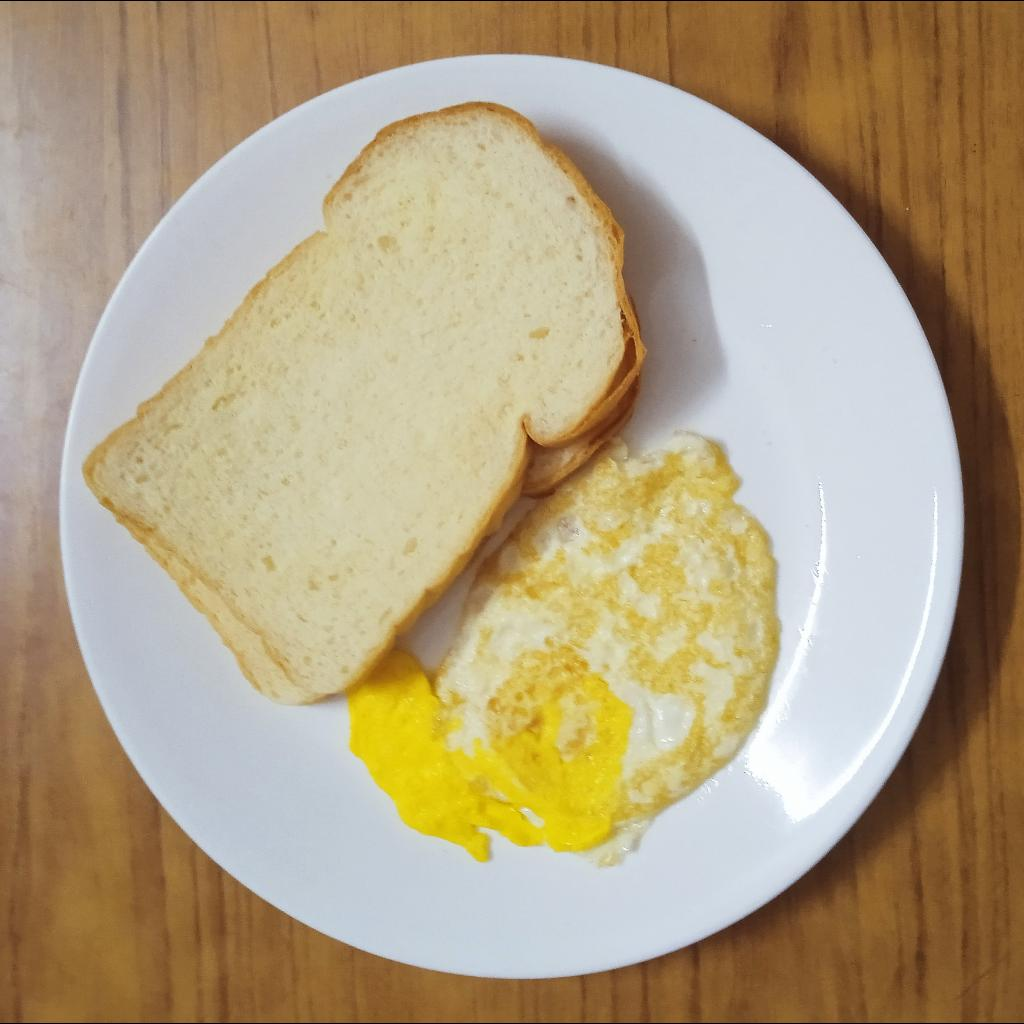bread: (83, 97, 651, 701)
egg-poached: (348, 432, 781, 865)
